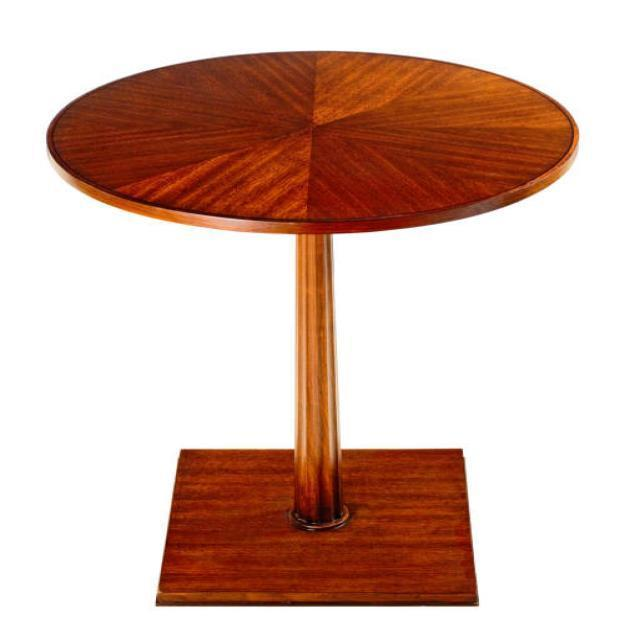table: (45, 49, 579, 605)
